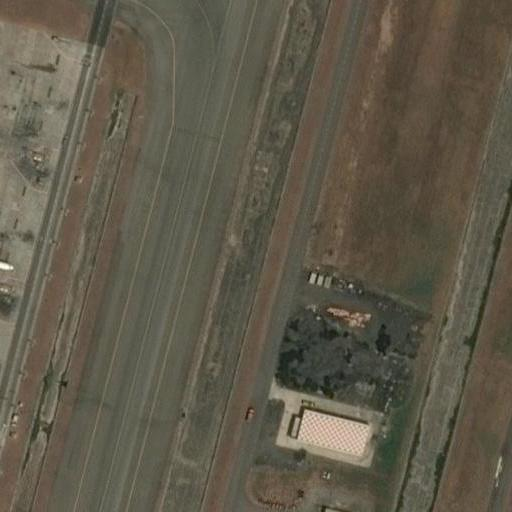Aircraft: (0, 221, 17, 295)
